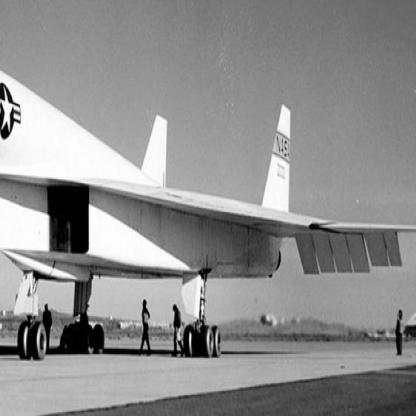XB70: (2, 69, 416, 363)
